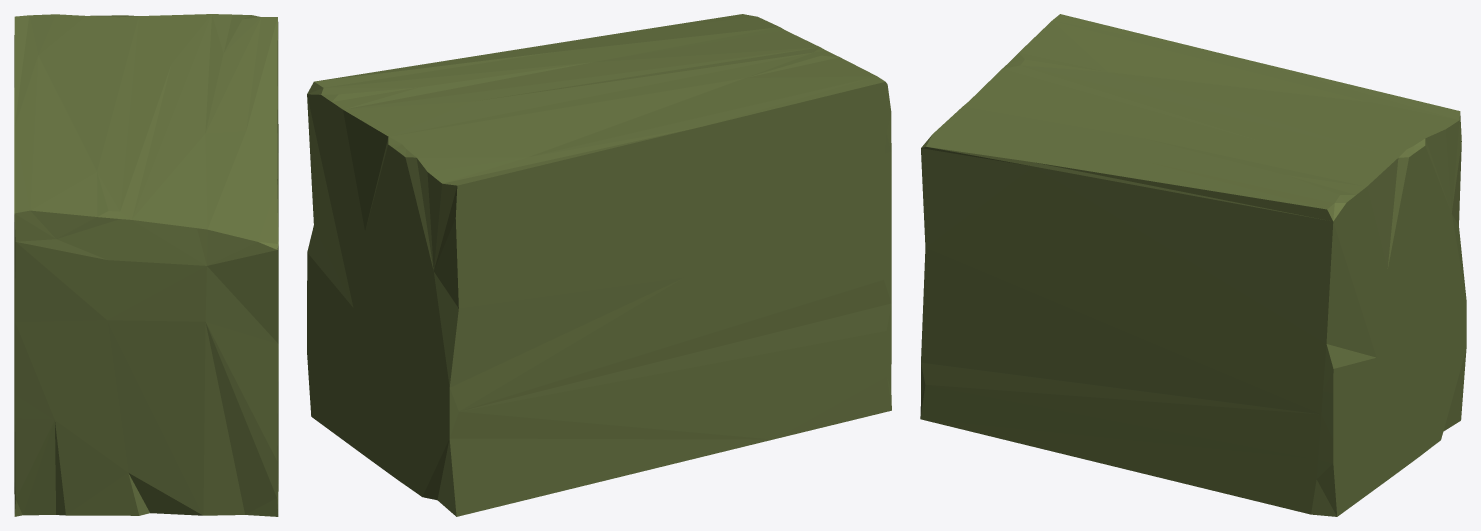
The model's file is ground_28.fbx.
3 renders of one model, left to right at view 1: azimuth 30°, elevation 25°; view 2: azimuth 150°, elevation 25°; view 3: azimuth 270°, elevation 25°, orthographic. The views are drawn at different scales.
Parts seen in each view (by area): view 1: ground_28; view 2: ground_28; view 3: ground_28.
Part boxes in pixels (left/top/right/bottom): ground_28: left=14, top=14, right=278, bottom=516; ground_28: left=307, top=14, right=891, bottom=516; ground_28: left=920, top=14, right=1466, bottom=516.
Bounding box in the file's own units: 8.82 × 6.42 × 10.26.
